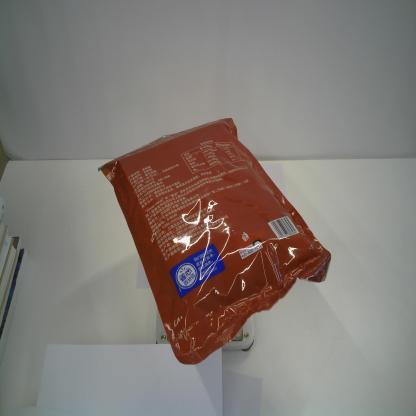Dried Food: (97, 118, 333, 366)
